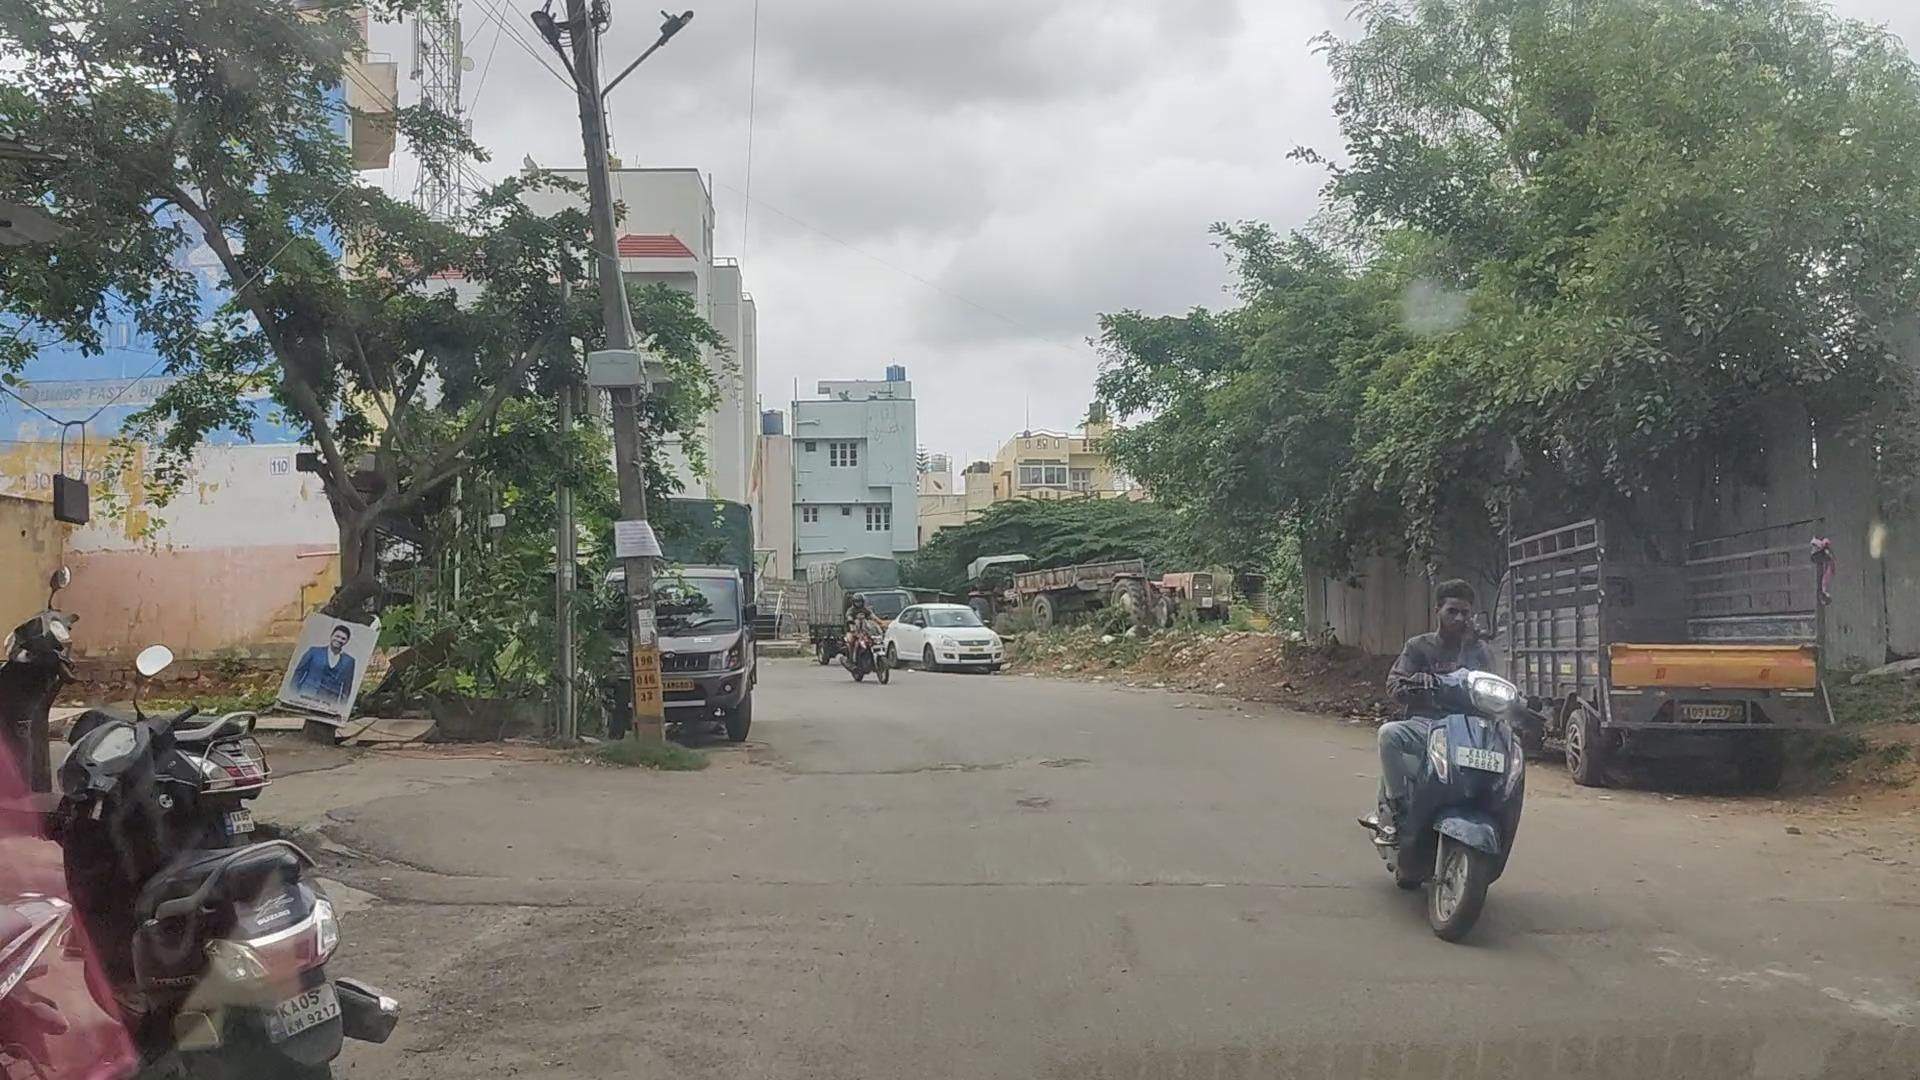LMV: (1404, 580, 1534, 940)
RoadDamages: (459, 901, 684, 1046), (790, 758, 1006, 775), (1043, 752, 1091, 781)
